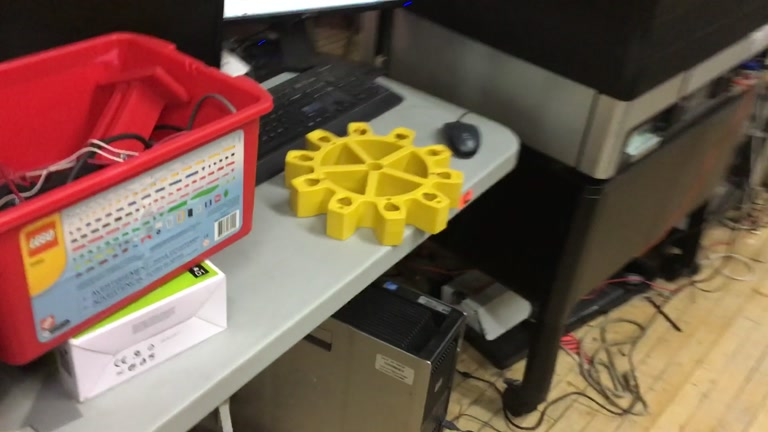gear: (284, 120, 465, 247)
